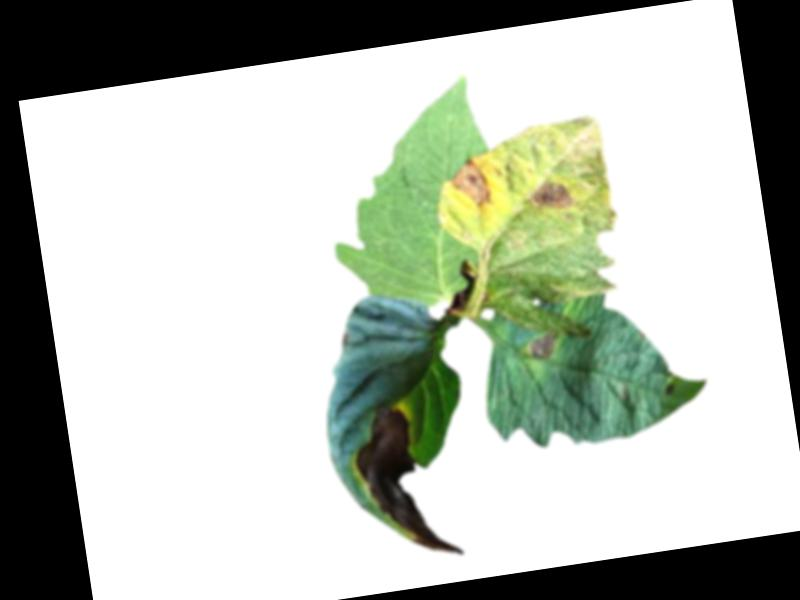Early_blight: (345, 392, 466, 571), (445, 157, 493, 210), (527, 175, 573, 214), (523, 329, 561, 363), (660, 379, 679, 396)
healthy: (310, 69, 510, 321)
